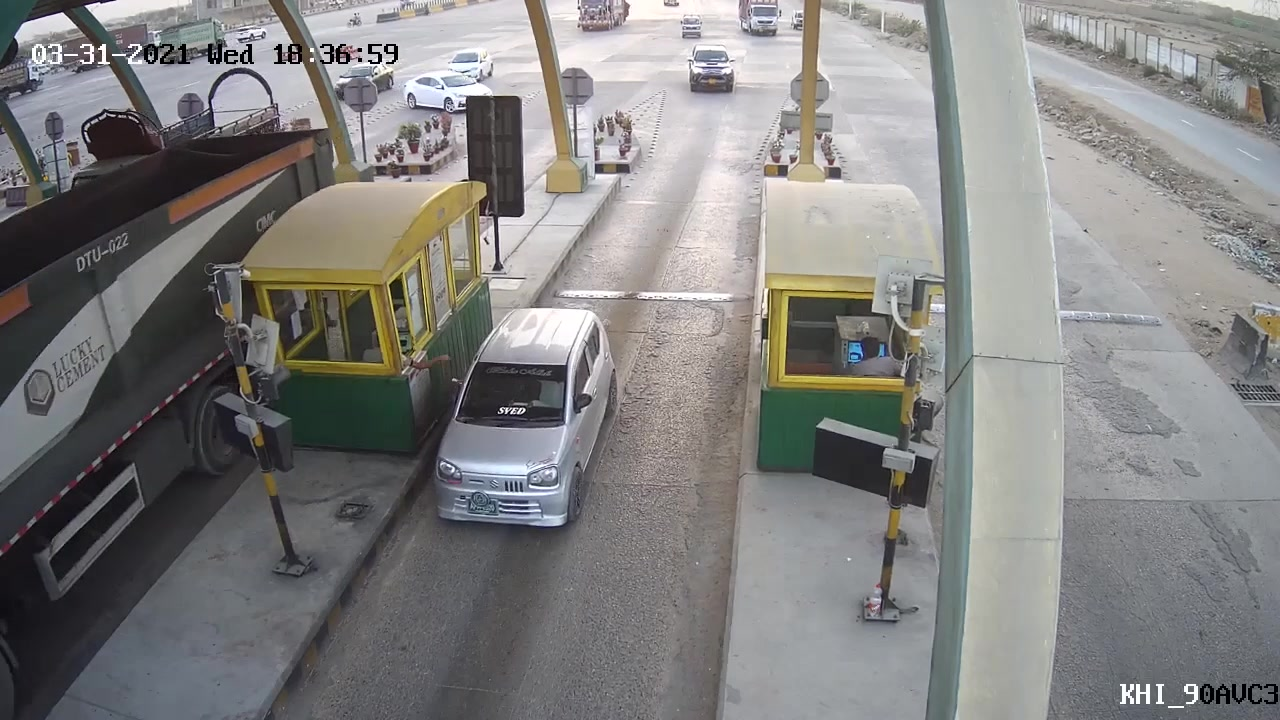F1: (424, 301, 627, 534)
